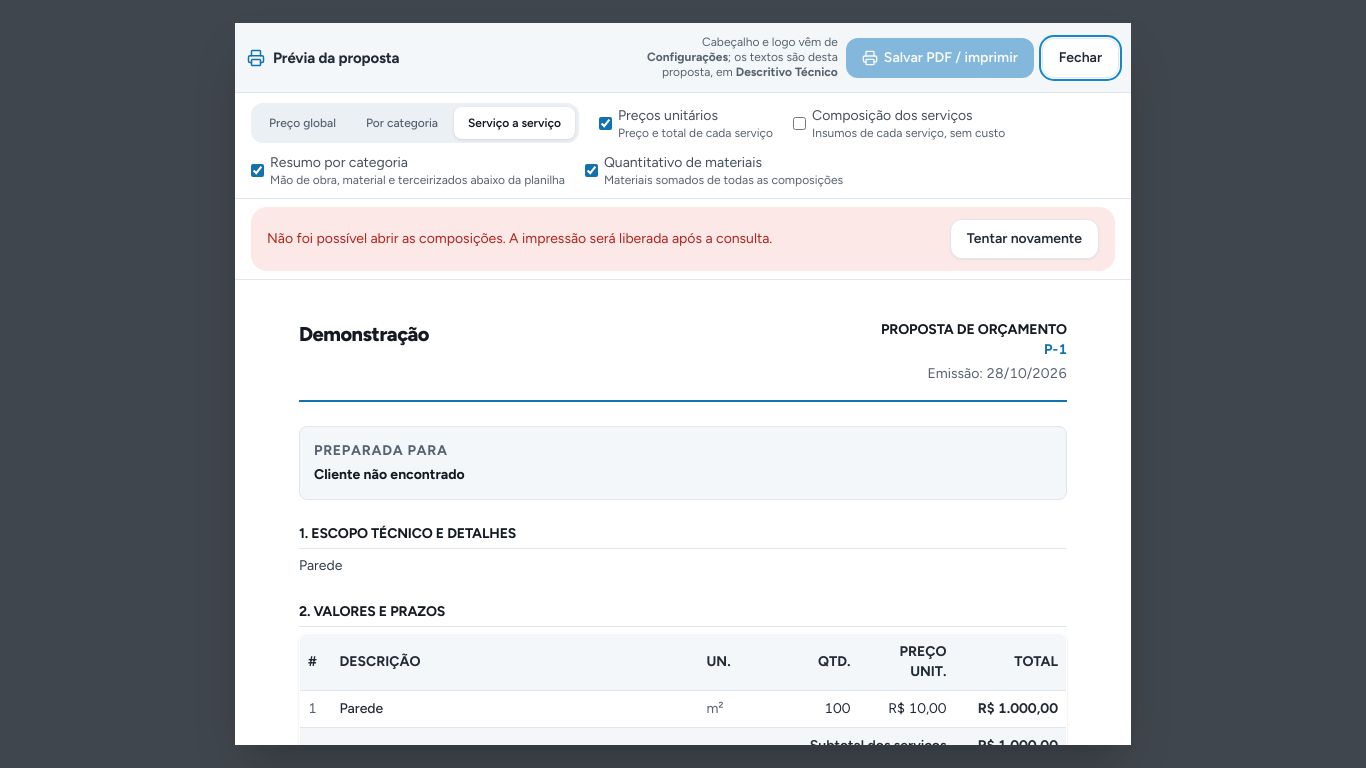
emissão da proposta › impede imprimir em caso de erro e permite tentar novamente
Expected: the button "Salvar PDF / imprimir" is disabled, [846,38,1034,78]
Click the button "Tentar novamente". click: {"x": 1024, "y": 239}
box: [950,219,1099,259]
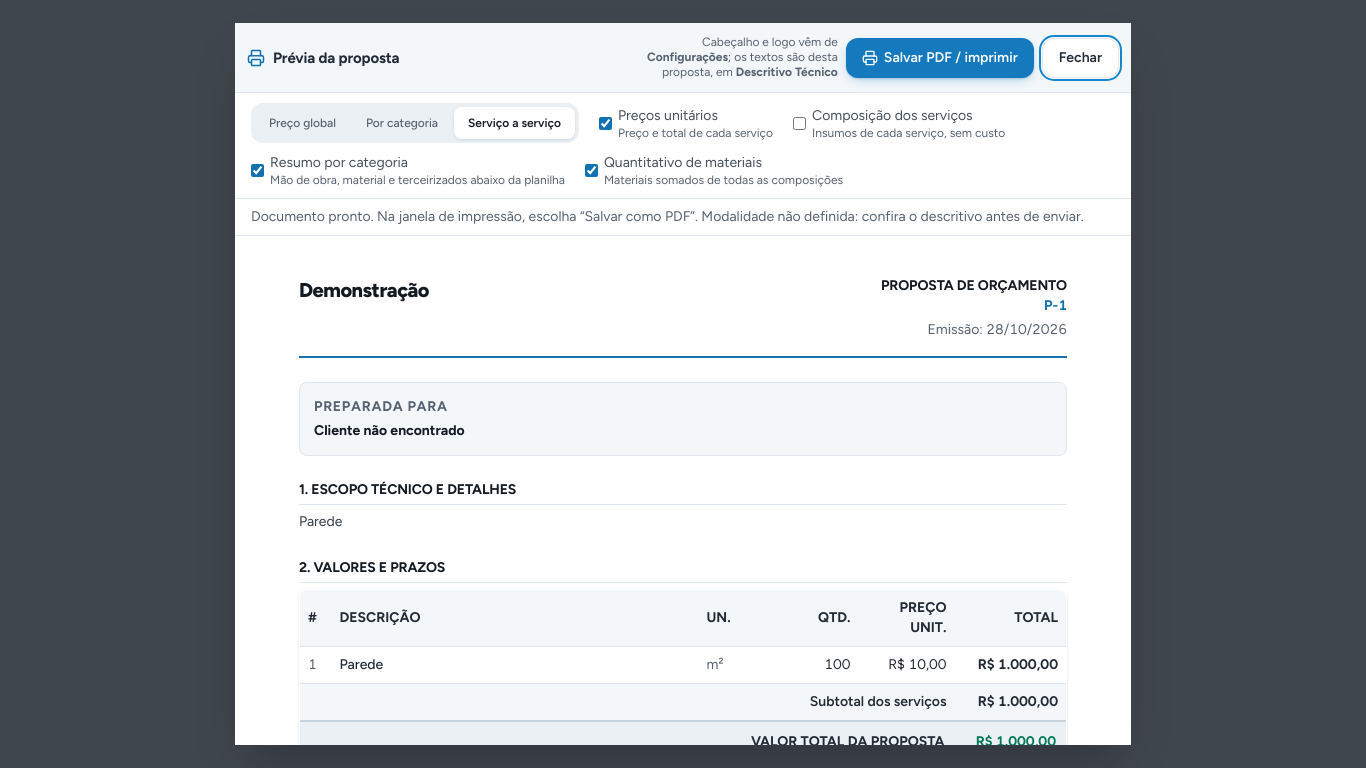
Result: the button "Salvar PDF / imprimir" is enabled at [846,38,1034,78]
